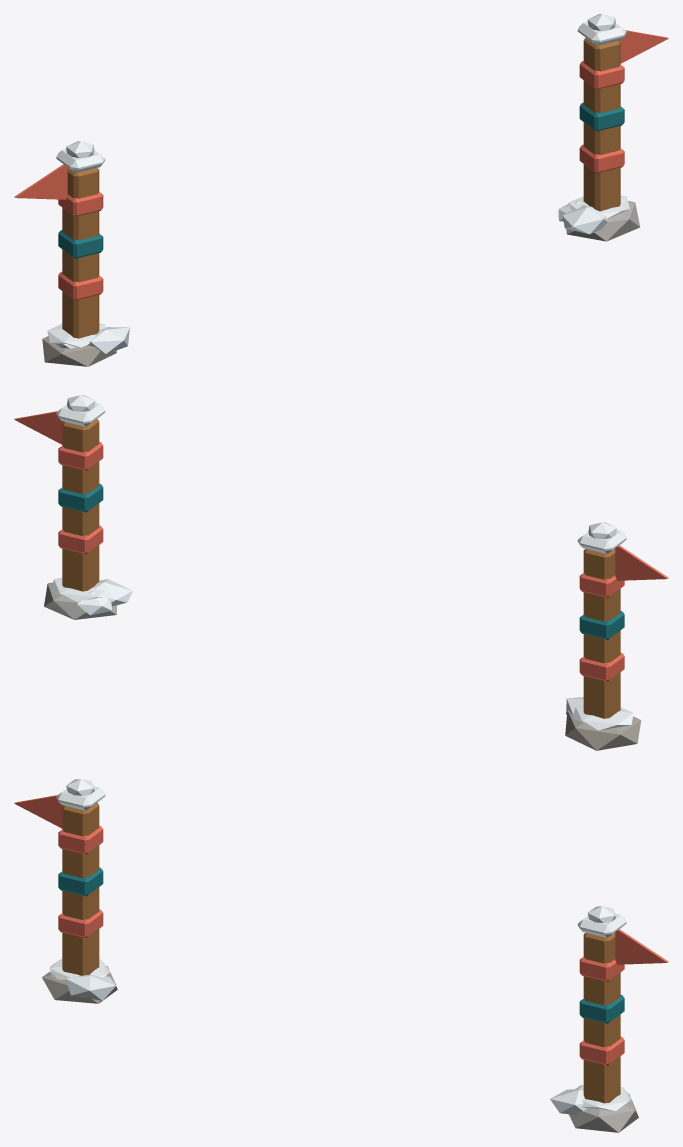
Rendered from checkpoint_posts.glb.
The picture shows the model from 3 angles, top to bottom: view 1: azimuth 30°, elevation 25°; view 2: azimuth 150°, elevation 25°; view 3: azimuth 330°, elevation 25°; orthographic projection.
Parts seen in each view (by area): view 1: checkpoint_posts, part_pennant_l, part_pennant_r; view 2: checkpoint_posts, part_pennant_l, part_pennant_r; view 3: checkpoint_posts, part_pennant_r, part_pennant_l.
Part boxes in pixels (box(x1,y1,x2,y2)): checkpoint_posts: box(42, 14, 640, 366); part_pennant_l: box(14, 164, 67, 199); part_pennant_r: box(619, 30, 668, 63); checkpoint_posts: box(44, 395, 641, 750); part_pennant_l: box(615, 545, 668, 580); part_pennant_r: box(14, 411, 63, 444); checkpoint_posts: box(42, 779, 638, 1132); part_pennant_r: box(615, 929, 668, 964); part_pennant_l: box(14, 795, 63, 828).
Size of the model in its own units: 3.76 by 1.22 by 0.3395.
